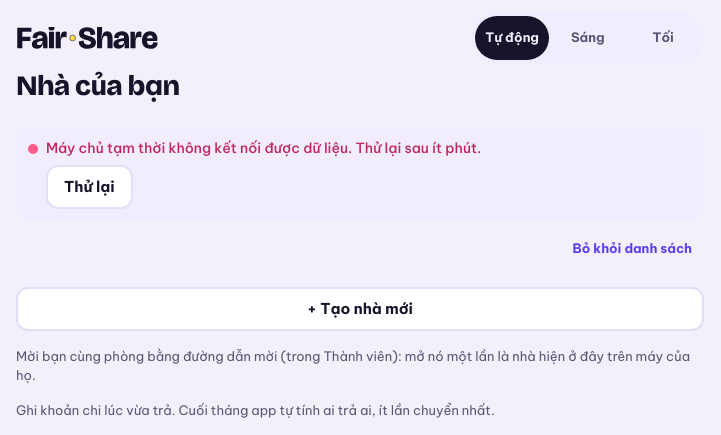
Test case: a household that could not be loaded stays, says why in Vietnamese, and Thử lại loads it
Expected: the message "Máy chủ tạm thời không kết nối được dữ liệu. Thử lại sau ít phút. Thử lại" is shown, top-left (16, 128), bottom-right (704, 219)
Click the button "Thử lại": (89, 186) top-left (46, 164), bottom-right (133, 208)
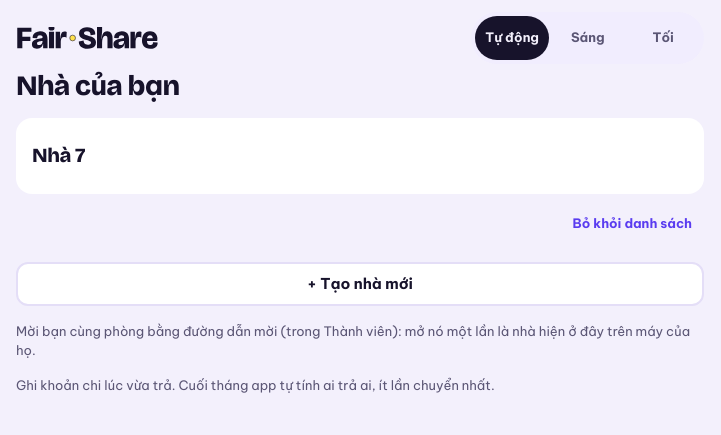
Expected: the link "Nhà 7" is shown, top-left (16, 118), bottom-right (704, 194)
